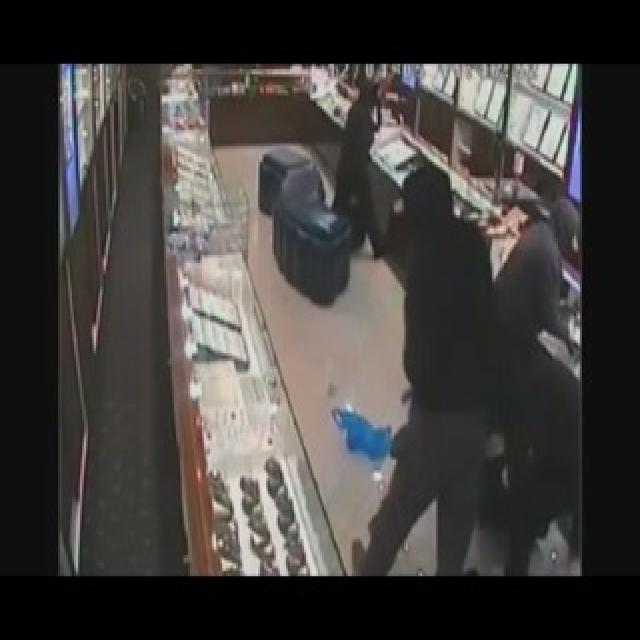thief: (396, 175, 580, 476), (307, 55, 388, 226)
